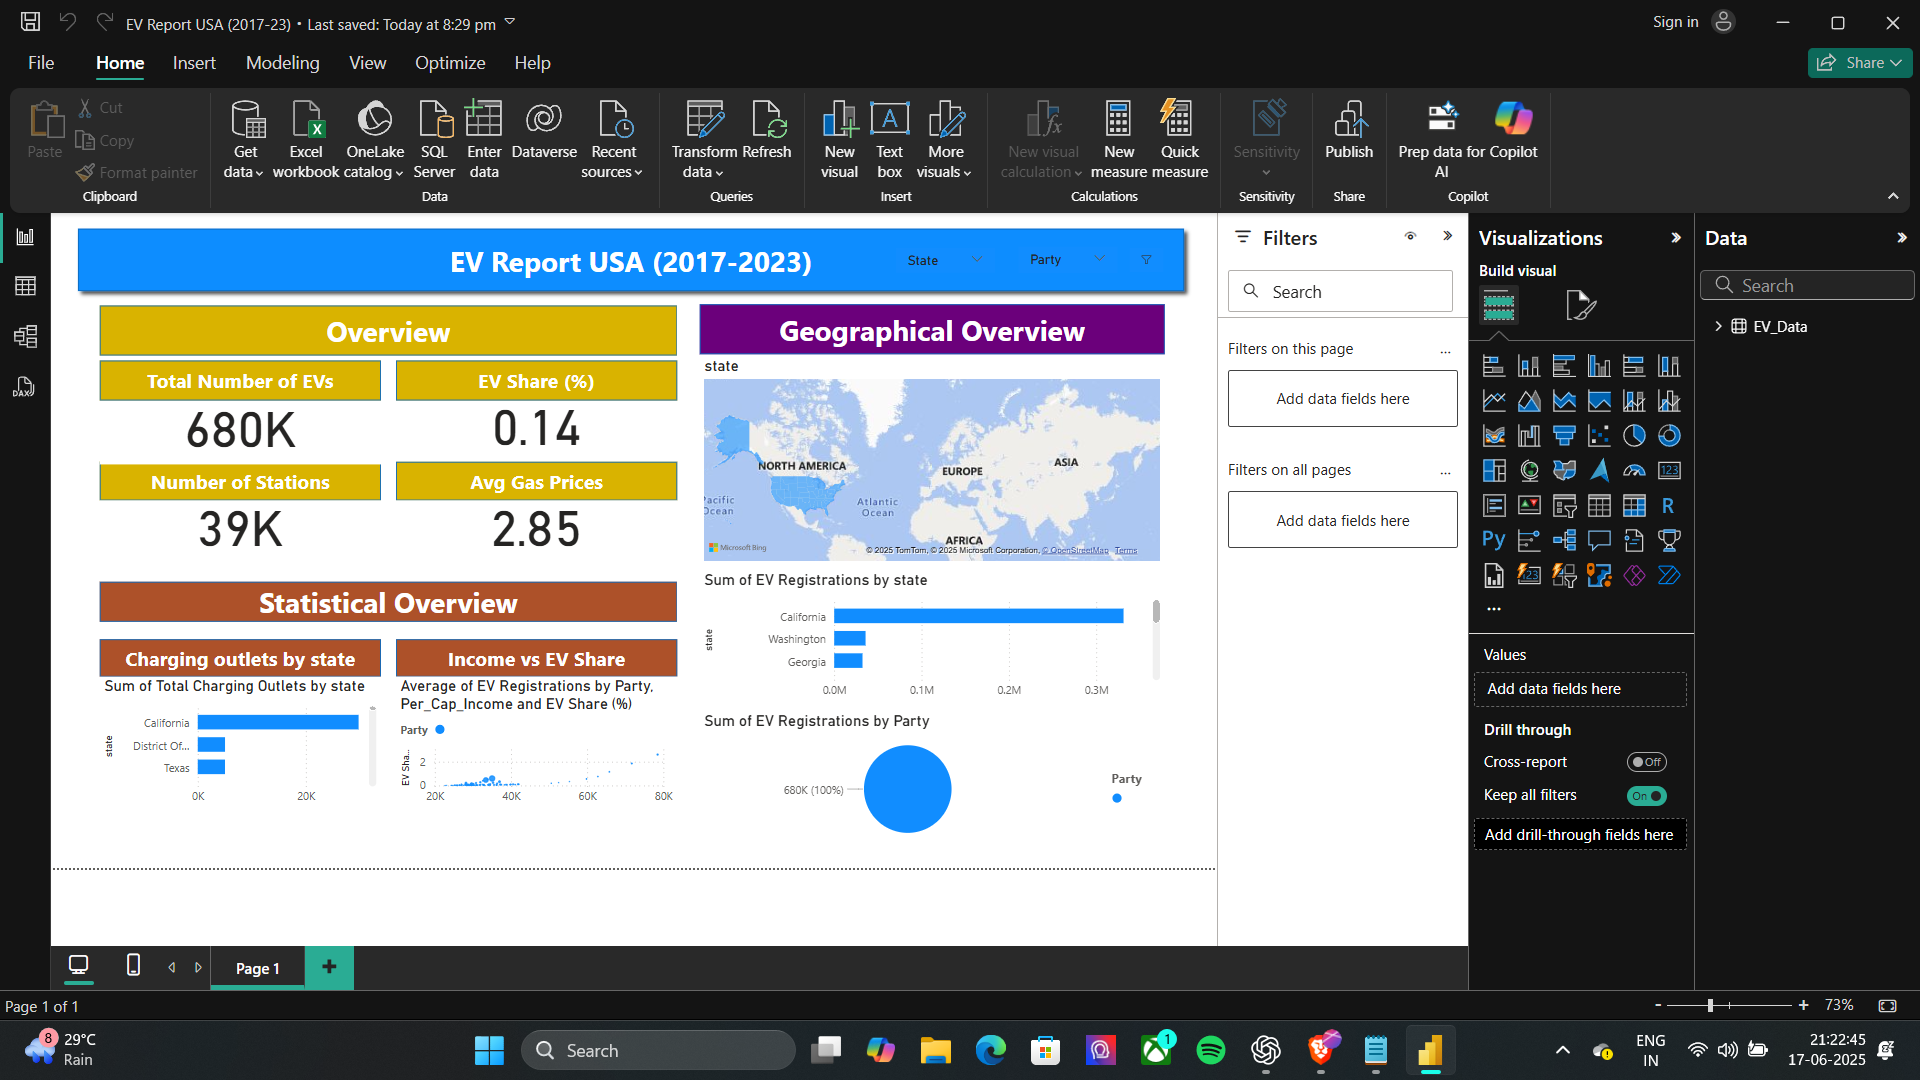

The page's visual inventory and layout, read from the dashboard file:
{"tool":"powerbi","page":{"name":"Page 1","canvas":[1280,720],"ordinal":0},"visuals":[{"type":"shape","box":[20.6,8.2,1232.3,86.4],"z":0},{"type":"shape","box":[53.5,161.9,308.7,43.9],"z":1000},{"type":"shape","box":[378.7,161.9,308.7,43.9],"z":2000},{"type":"shape","box":[53.5,273.1,308.7,42.5],"z":3000},{"type":"shape","box":[378.7,273.1,308.7,42.5],"z":4000},{"type":"card","fields":{"Values":["Sum(EV_Data.Stations)"]},"box":[53.5,315.6,308.7,70],"z":5000},{"type":"card","fields":{"Values":["Avg(EV_Data.gasoline_price_per_gallon)"]},"box":[378.7,315.6,308.7,70],"z":6000},{"type":"card","fields":{"Values":["Sum(EV_Data.EV Registrations)"]},"box":[53.5,207.2,308.7,68.6],"z":7000},{"type":"card","fields":{"Values":["Avg(EV_Data.EV Share (%))"]},"box":[378.7,207.2,308.7,64.5],"z":8000},{"type":"shape","box":[53.5,101.5,634,54.9],"z":9000},{"type":"shape","box":[712.7,100.4,510.5,54.9],"z":10000},{"type":"filledMap","fields":{"Category":["EV_Data.state"]},"box":[712.2,157.8,510.5,229.2],"z":11000},{"type":"shape","box":[53.5,404.8,634,43.9],"z":12000},{"type":"barChart","fields":{"Category":["EV_Data.state"],"Y":["Sum(EV_Data.Total Charging Outlets)"]},"box":[53.5,509.1,308.7,149.6],"z":13000},{"type":"shape","box":[53.5,467.9,308.7,41.2],"z":14000},{"type":"shape","box":[378.7,467.9,308.7,41.2],"z":15000},{"type":"scatterChart","fields":{"X":["EV_Data.Per_Cap_Income"],"Y":["EV_Data.EV Share (%)"],"Size":["Avg(EV_Data.EV Registrations)"],"Series":["EV_Data.Party"]},"box":[378.7,509.1,308.7,149.6],"z":16000},{"type":"clusteredBarChart","fields":{"Category":["EV_Data.state"],"Y":["Sum(EV_Data.EV Registrations)"]},"box":[712.2,392.5,510.5,149.6],"z":17000},{"type":"pieChart","fields":{"Category":["EV_Data.Party"],"Y":["Sum(EV_Data.EV Registrations)"]},"box":[712.2,547.5,509.1,150.9],"z":18000},{"type":"slicer","fields":{"Values":["EV_Data.Per_Cap_Income"]},"box":[1184.2,38.4,37,26.1],"z":19000},{"type":"slicer","fields":{"Values":["EV_Data.Party"]},"box":[1062.1,37,108.4,28.8],"z":20000},{"type":"slicer","fields":{"Values":["EV_Data.state"]},"box":[927.6,38.4,108.4,27.4],"z":21000}]}

Visuals, with their boxes on the page's 1280x720 design canvas (x1, y1, x2, y2). These are canvas units, not pixel positions in the 1920x1080 screenshot, which may show the page scaled, cropped or inside an application window:
shape: bbox(21, 8, 1253, 95)
shape: bbox(54, 162, 362, 206)
shape: bbox(379, 162, 687, 206)
shape: bbox(54, 273, 362, 316)
shape: bbox(379, 273, 687, 316)
card - Sum(EV_Data.Stations): bbox(54, 316, 362, 386)
card - Avg(EV_Data.gasoline_price_per_gallon): bbox(379, 316, 687, 386)
card - Sum(EV_Data.EV Registrations): bbox(54, 207, 362, 276)
card - Avg(EV_Data.EV Share (%)): bbox(379, 207, 687, 272)
shape: bbox(54, 102, 688, 156)
shape: bbox(713, 100, 1223, 155)
filledMap - EV_Data.state: bbox(712, 158, 1223, 387)
shape: bbox(54, 405, 688, 449)
barChart - EV_Data.state x Sum(EV_Data.Total Charging Outlets): bbox(54, 509, 362, 659)
shape: bbox(54, 468, 362, 509)
shape: bbox(379, 468, 687, 509)
scatterChart - EV_Data.Per_Cap_Income x EV_Data.EV Share (%): bbox(379, 509, 687, 659)
clusteredBarChart - EV_Data.state x Sum(EV_Data.EV Registrations): bbox(712, 392, 1223, 542)
pieChart - EV_Data.Party x Sum(EV_Data.EV Registrations): bbox(712, 548, 1221, 698)
slicer - EV_Data.Per_Cap_Income: bbox(1184, 38, 1221, 64)
slicer - EV_Data.Party: bbox(1062, 37, 1170, 66)
slicer - EV_Data.state: bbox(928, 38, 1036, 66)
